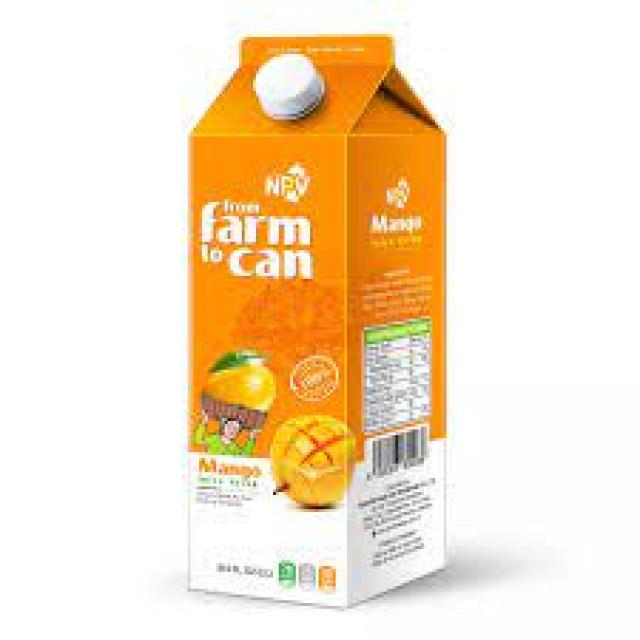non_white_jug: (78, 2, 195, 280)
